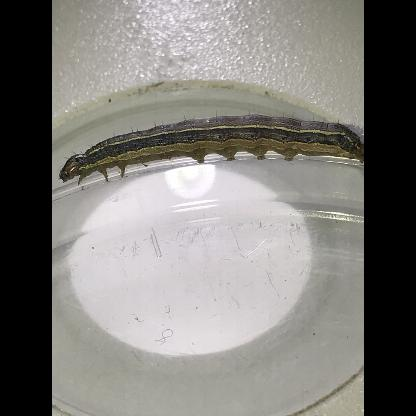Fall Armyworm Larvae: (52, 108, 364, 188)
